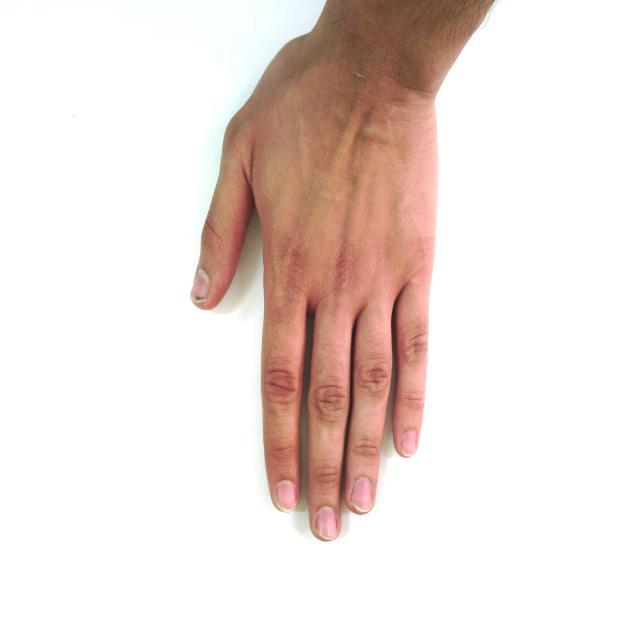Fingernail: (350, 477, 372, 512), (316, 507, 338, 539), (277, 481, 296, 511), (192, 270, 209, 300), (400, 430, 416, 456)
